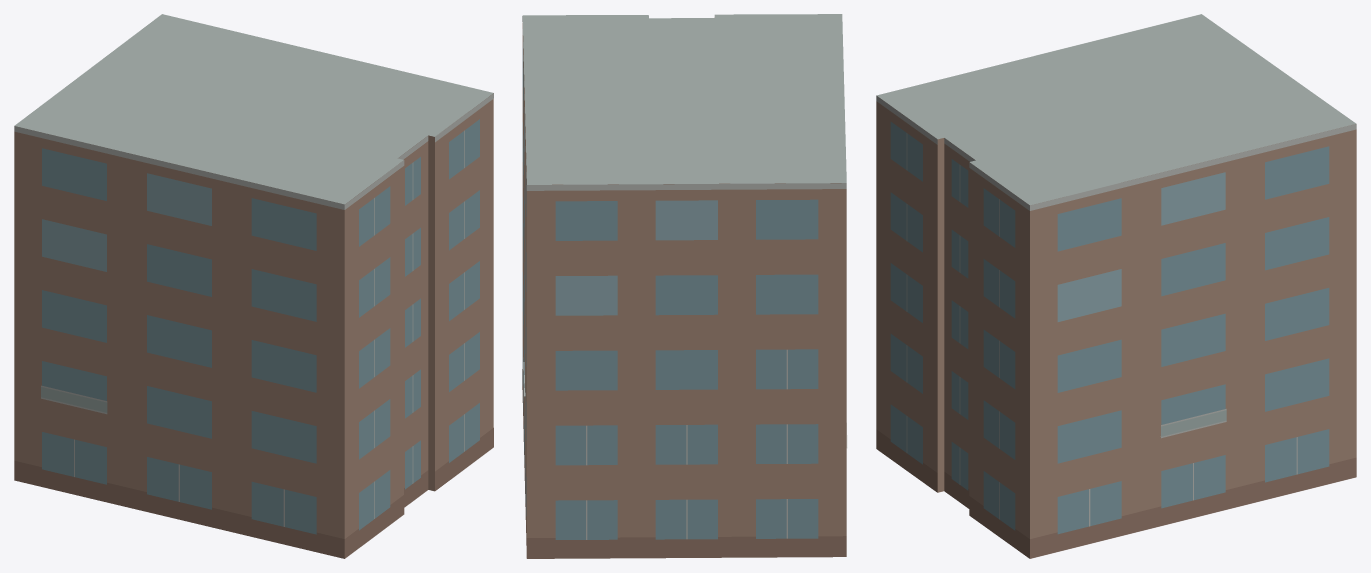
Rendered from survey-upis-32765163.glb.
The picture shows the model from 3 angles, left to right: view 1: azimuth 30°, elevation 25°; view 2: azimuth 150°, elevation 25°; view 3: azimuth 270°, elevation 25°; orthographic projection. The views are drawn at different scales.
Parts seen in each view (by area): view 1: survey-upis-32765163.tmp; view 2: survey-upis-32765163.tmp; view 3: survey-upis-32765163.tmp.
Part boxes in pixels (left/top/right/bottom): survey-upis-32765163.tmp: left=14, top=14, right=493, bottom=558; survey-upis-32765163.tmp: left=522, top=14, right=847, bottom=558; survey-upis-32765163.tmp: left=876, top=14, right=1356, bottom=558.
Size of the model in its own units: 17.72 by 15.25 by 18.78.
